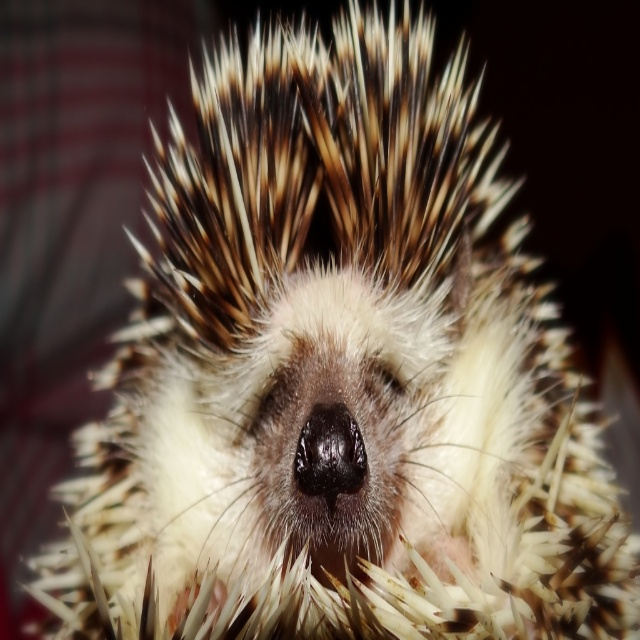Hedgehog: (16, 0, 640, 639)
